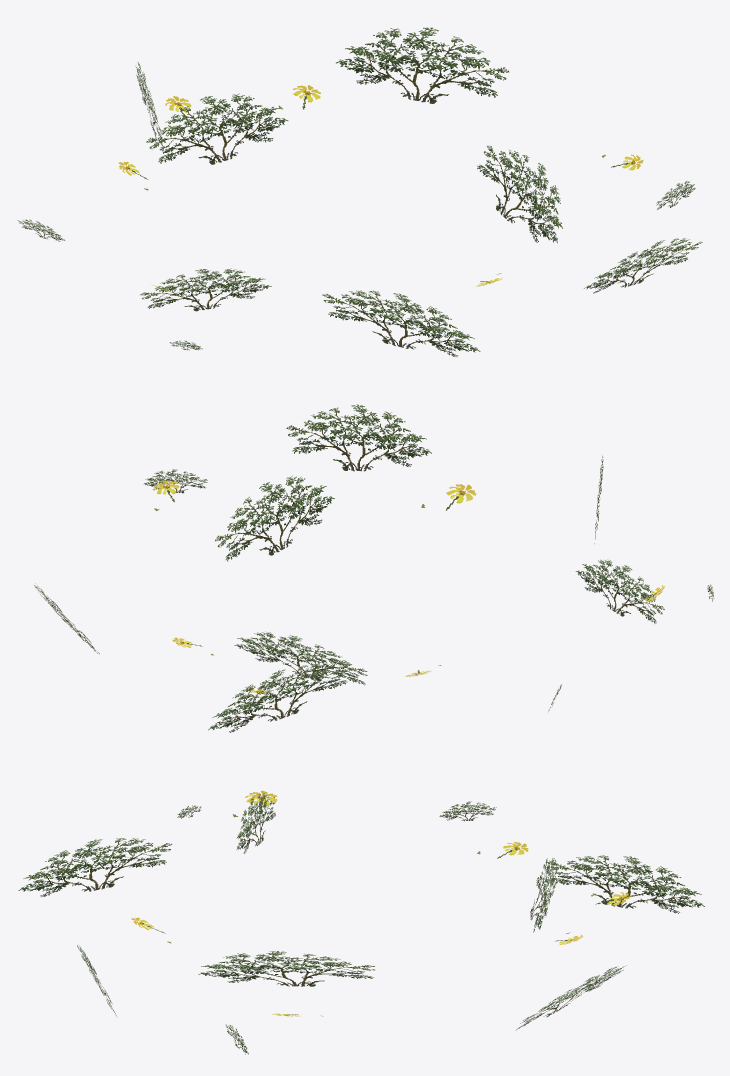
The model's file is flower_bush_lod1.glb.
The picture shows the model from 3 angles, top to bottom: view 1: azimuth 30°, elevation 25°; view 2: azimuth 150°, elevation 25°; view 3: azimuth 270°, elevation 25°; orthographic projection. The views are drawn at different scales.
Visible parts, largest first — view 1: flower_bush_lod1; view 2: flower_bush_lod1; view 3: flower_bush_lod1.
Part boxes in pixels (box(x1,y1,x2,y2)): flower_bush_lod1: box(17, 27, 702, 356); flower_bush_lod1: box(34, 404, 714, 732); flower_bush_lod1: box(18, 790, 704, 1054).
Bounding box in the file's own units: 7.08 × 0.7634 × 8.39.
Materials: 2 (2 with a texture image).
